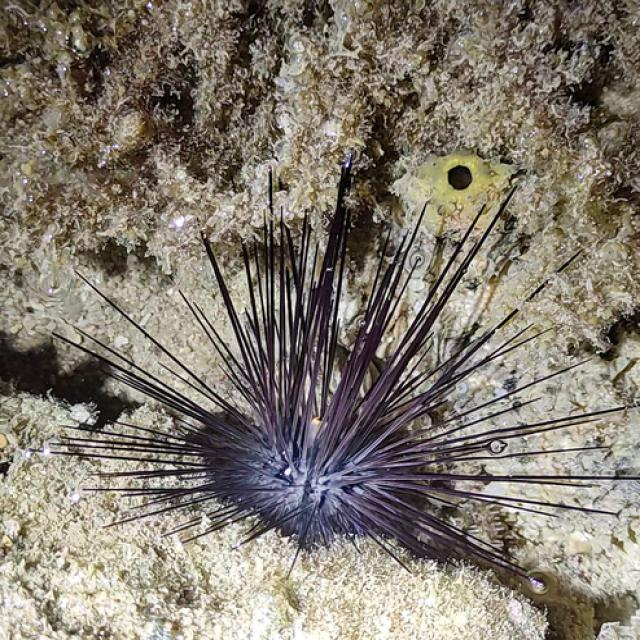Urchin: (46, 155, 640, 581)
